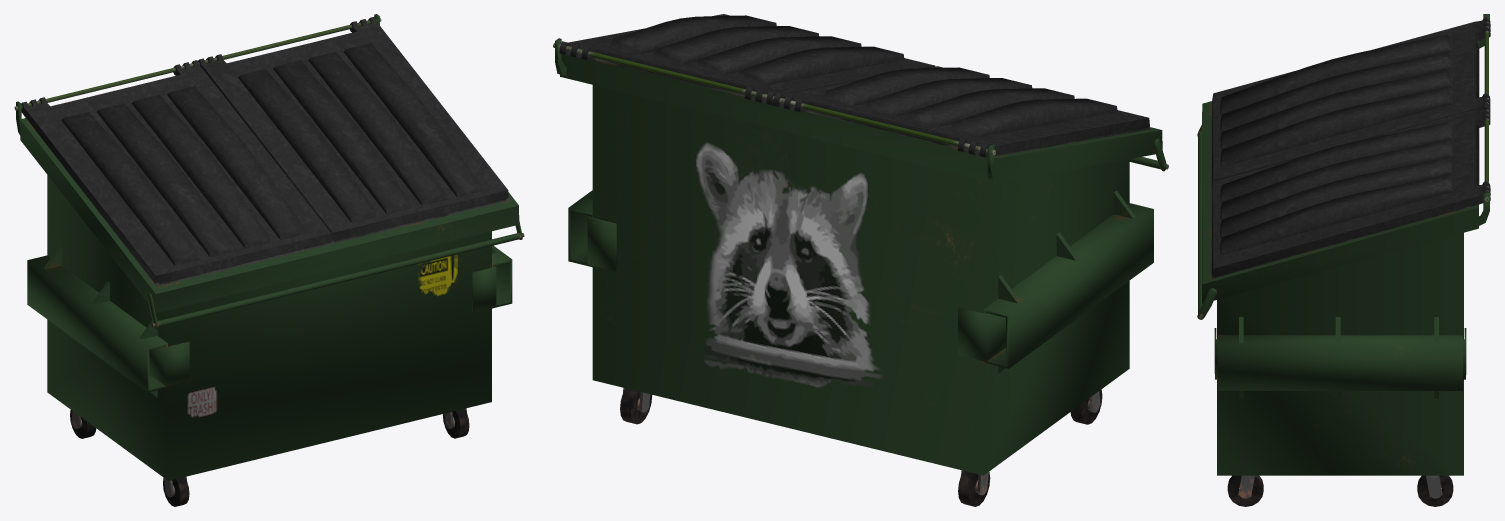
The model's file is dumpster_low_poly.glb.
The picture shows the model from 3 angles, left to right: view 1: azimuth 30°, elevation 25°; view 2: azimuth 150°, elevation 25°; view 3: azimuth 270°, elevation 25°; orthographic projection. The views are drawn at different scales.
Parts seen in each view (by area): view 1: 4_low, 5_low, 6_low, 10_low, 7_low, 3_low, 9_low; view 2: 4_low, 5_low, 6_low, 7_low, 3_low, 9_low; view 3: 5_low, 4_low, 6_low, 3_low, 10_low, 9_low, 7_low.
Boxes of the visible parts, left/top/right/bottom form: 4_low: left=20, top=118, right=519, bottom=480; 5_low: left=21, top=16, right=508, bottom=286; 6_low: left=27, top=245, right=512, bottom=397; 10_low: left=151, top=233, right=524, bottom=327; 7_low: left=149, top=266, right=496, bottom=386; 3_low: left=70, top=408, right=469, bottom=506; 9_low: left=14, top=18, right=381, bottom=110; 4_low: left=560, top=54, right=1162, bottom=475; 5_low: left=559, top=14, right=1150, bottom=157; 6_low: left=568, top=190, right=1153, bottom=373; 7_low: left=587, top=216, right=1005, bottom=361; 3_low: left=620, top=388, right=1102, bottom=506; 9_low: left=553, top=43, right=995, bottom=155; 5_low: left=1211, top=16, right=1490, bottom=278; 4_low: left=1202, top=101, right=1478, bottom=475; 6_low: left=1218, top=317, right=1462, bottom=398; 3_low: left=1227, top=475, right=1453, bottom=506; 10_low: left=1198, top=131, right=1203, bottom=318; 9_low: left=1484, top=21, right=1488, bottom=201; 7_low: left=1214, top=328, right=1466, bottom=379.
Bounding box in the file's own units: 2.81 × 2.36 × 1.89.
1 material, 1 textured.
